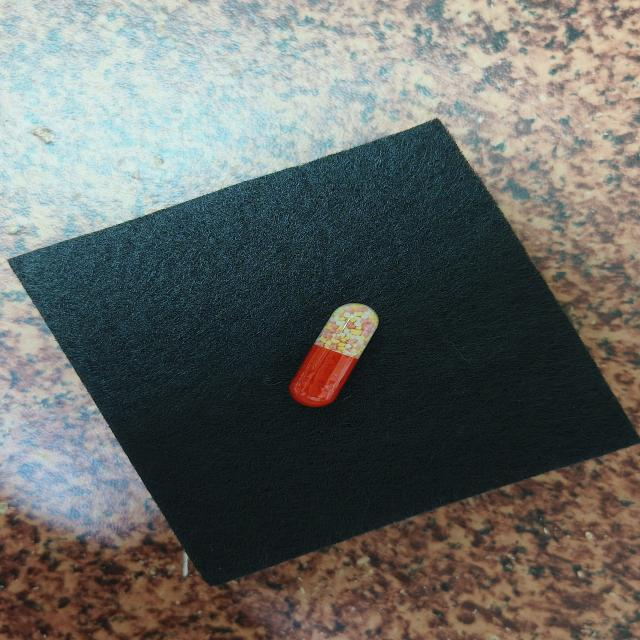Intact Capsule: (289, 303, 379, 407)
